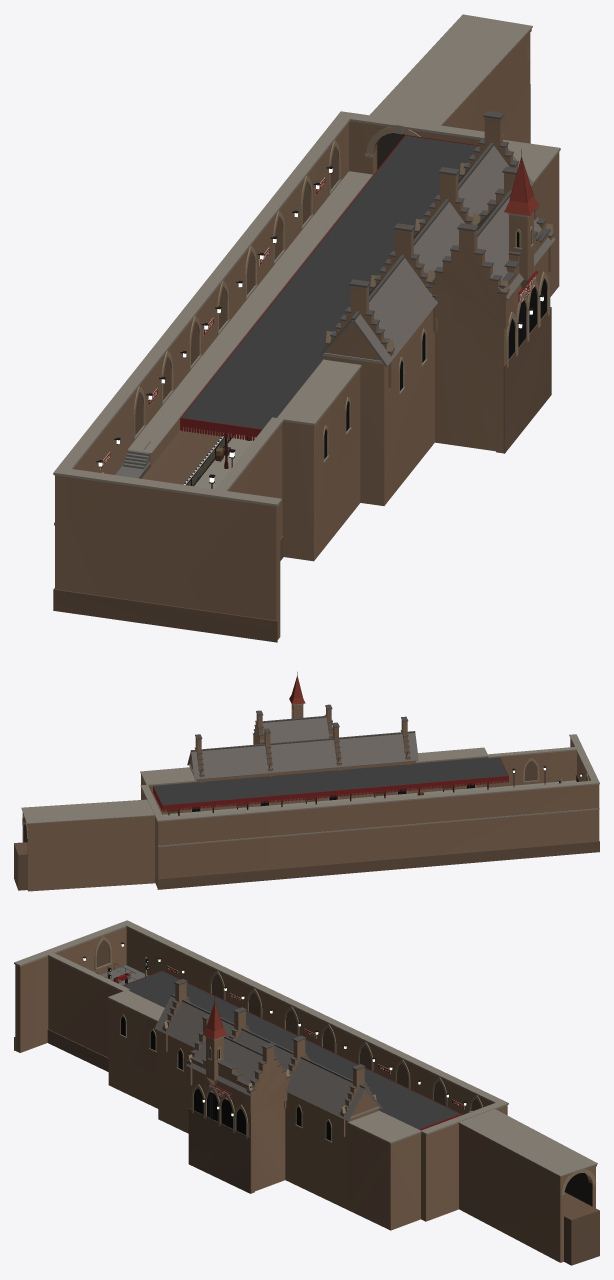
The model's file is hogsmeade-station.glb.
3 renders of one model, top to bottom at view 1: azimuth 30°, elevation 25°; view 2: azimuth 150°, elevation 25°; view 3: azimuth 270°, elevation 25°, orthographic. The views are drawn at different scales.
Visible parts, largest first — view 1: hogsmeade-station-stone, hogsmeade-station-paint, hogsmeade-station-slate, hogsmeade-station-metal, hogsmeade-station-pave; view 2: hogsmeade-station-stone, hogsmeade-station-paint, hogsmeade-station-slate, hogsmeade-station-pave; view 3: hogsmeade-station-stone, hogsmeade-station-paint, hogsmeade-station-slate, hogsmeade-station-metal.
Part boxes in pixels (left/top/right/bottom): hogsmeade-station-stone: left=53, top=14, right=560, bottom=642; hogsmeade-station-paint: left=100, top=133, right=546, bottom=488; hogsmeade-station-slate: left=318, top=111, right=555, bottom=366; hogsmeade-station-metal: left=96, top=149, right=544, bottom=486; hogsmeade-station-pave: left=185, top=433, right=255, bottom=489; hogsmeade-station-stone: left=14, top=703, right=599, bottom=891; hogsmeade-station-paint: left=23, top=675, right=561, bottom=842; hogsmeade-station-slate: left=187, top=704, right=418, bottom=779; hogsmeade-station-pave: left=162, top=780, right=576, bottom=817; hogsmeade-station-stone: left=14, top=920, right=599, bottom=1265; hogsmeade-station-paint: left=107, top=957, right=592, bottom=1206; hogsmeade-station-slate: left=154, top=979, right=382, bottom=1121; hogsmeade-station-metal: left=82, top=942, right=466, bottom=1121.
Size of the model in its own units: 81.55 by 26.5 by 78.52.
